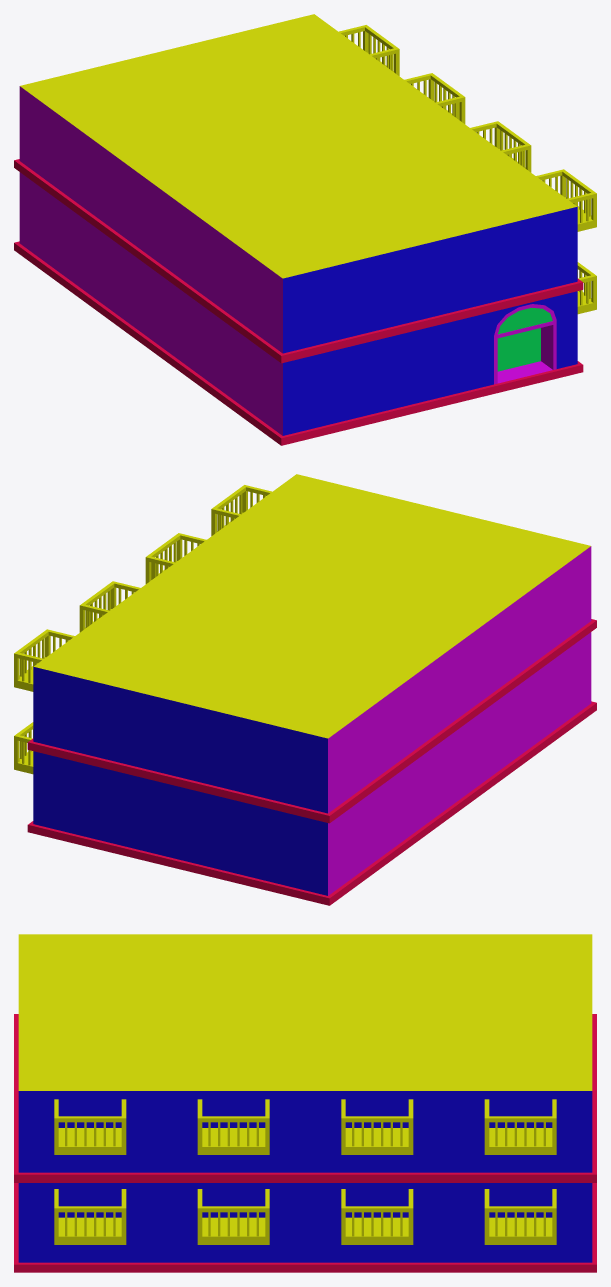
3 renders of one model, top to bottom at view 1: azimuth 30°, elevation 25°; view 2: azimuth 150°, elevation 25°; view 3: azimuth 270°, elevation 25°, orthographic. The views are drawn at different scales.
Visible parts, largest first — view 1: building_001; view 2: building_001; view 3: building_001.
Part boxes in pixels (x1=…): building_001: x1=14, y1=14, x2=596, y2=445; building_001: x1=14, y1=474, x2=596, y2=905; building_001: x1=14, y1=934, x2=596, y2=1272.
Bounding box in the file's own units: 933 × 440 × 1293.
